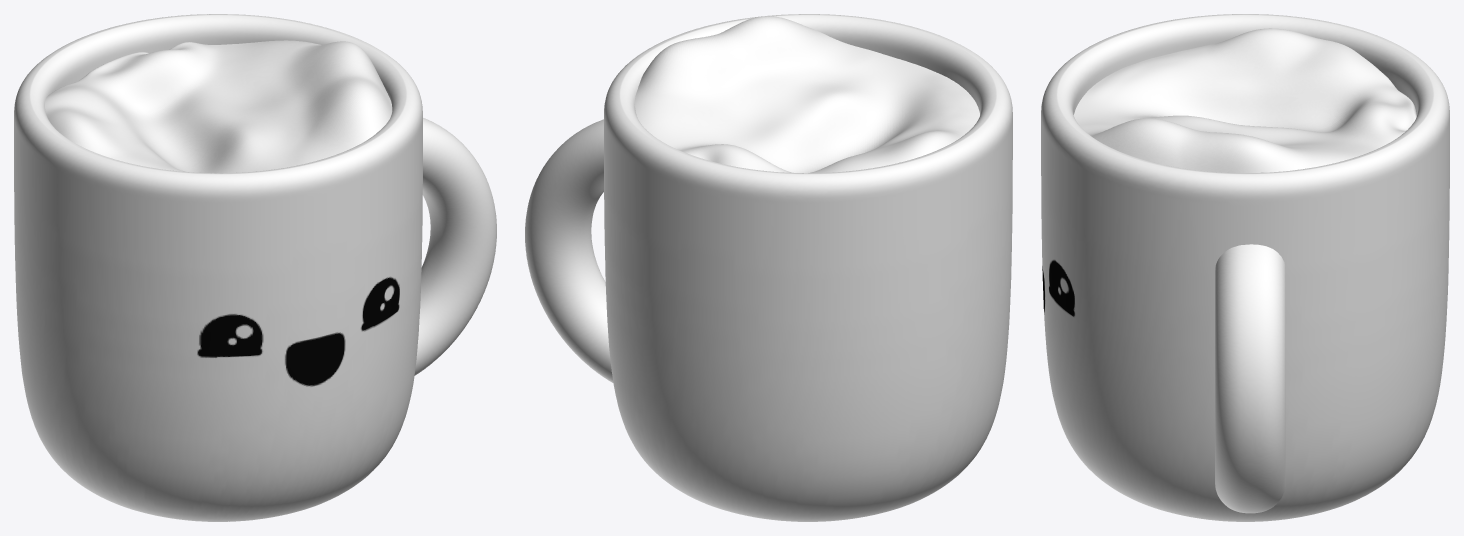
Rendered from modelDraco.gltf.
3 renders of one model, left to right at view 1: azimuth 30°, elevation 25°; view 2: azimuth 150°, elevation 25°; view 3: azimuth 270°, elevation 25°, orthographic.
Visible parts, largest first — view 1: mug, Circle.002; view 2: mug, Circle.002; view 3: mug, Circle.002.
Part boxes in pixels (x1,y1,x2,y2): mug: (14, 14, 496, 521); Circle.002: (45, 40, 392, 173); mug: (525, 14, 1012, 521); Circle.002: (634, 16, 979, 173); mug: (1041, 14, 1449, 521); Circle.002: (1073, 28, 1416, 172).
Bounding box in the file's own units: 3.4 × 2.96 × 2.66.
Materials: 2 (1 with a texture image).
